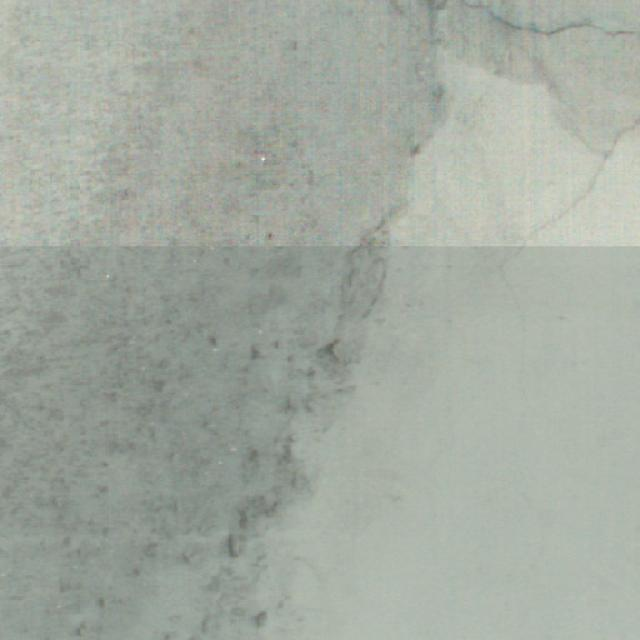Longitudinal: (190, 205, 392, 640)
Network: (411, 1, 640, 275)
Rippled: (18, 281, 166, 628)
